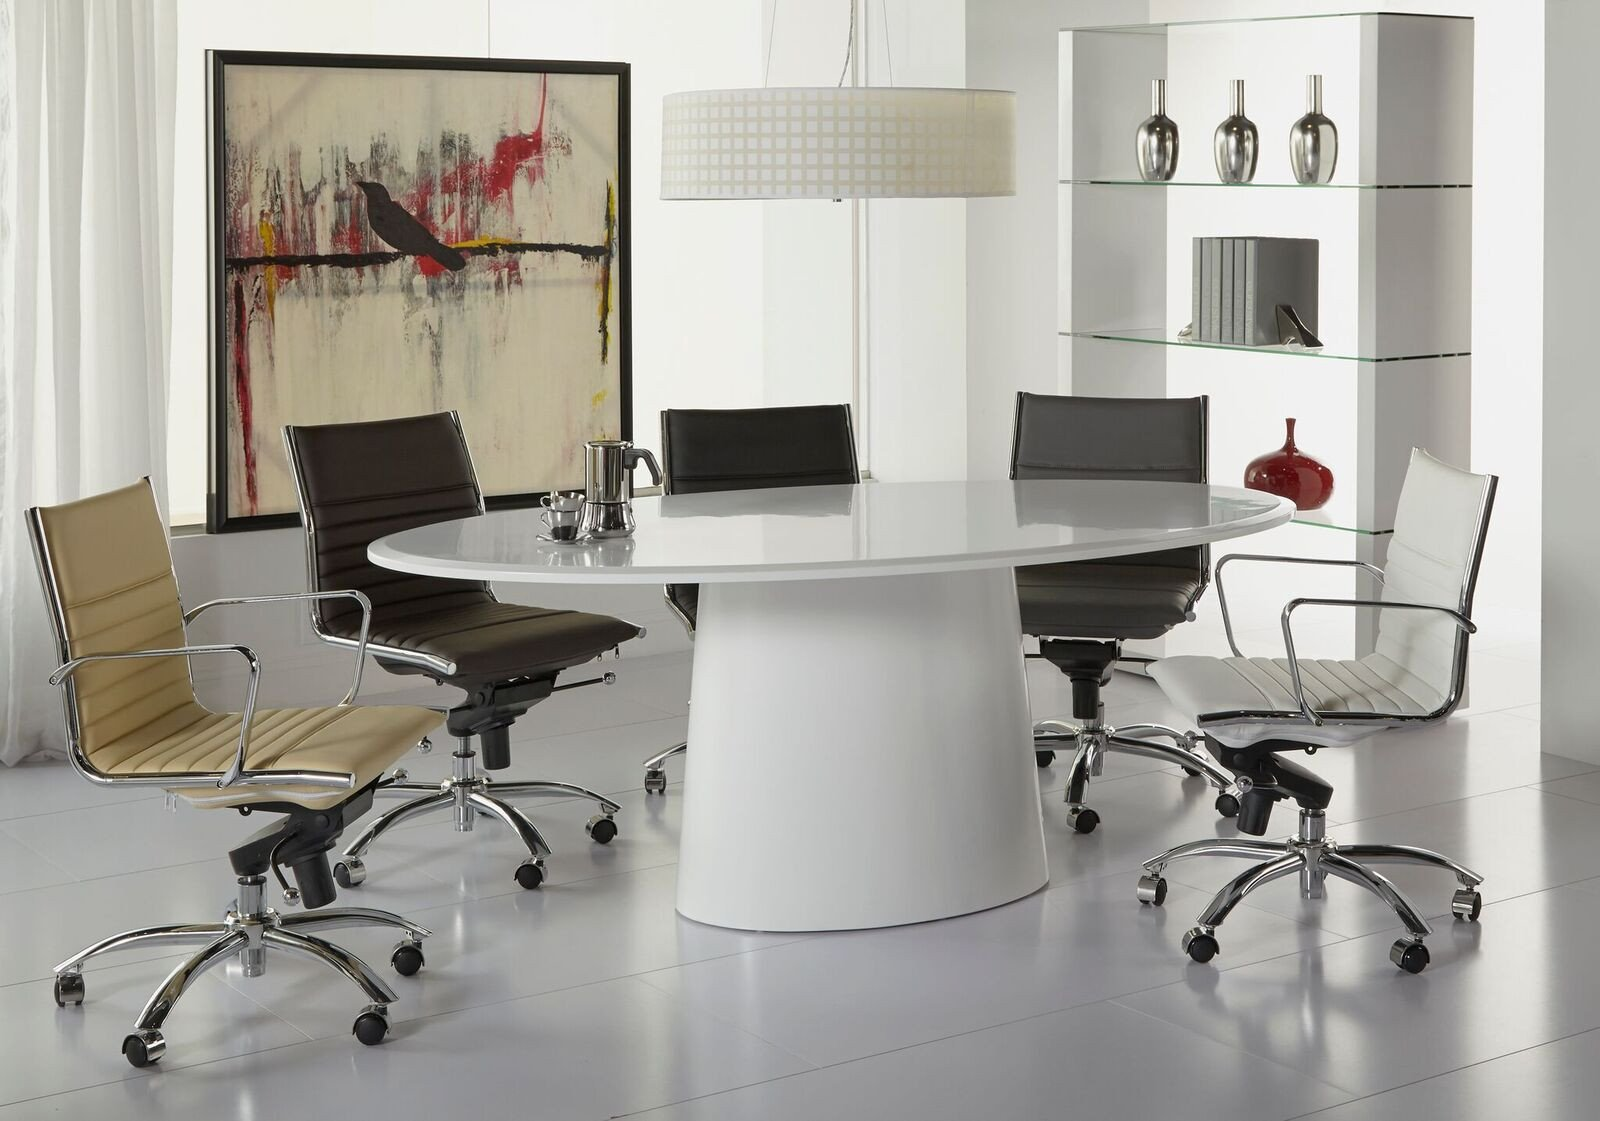conference_table: (365, 480, 1299, 933)
